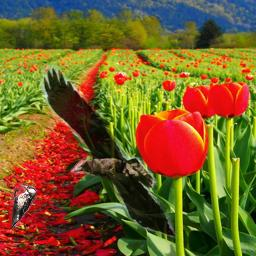Crow: (40, 65, 177, 240)
Woodpecker: (11, 183, 37, 231)
